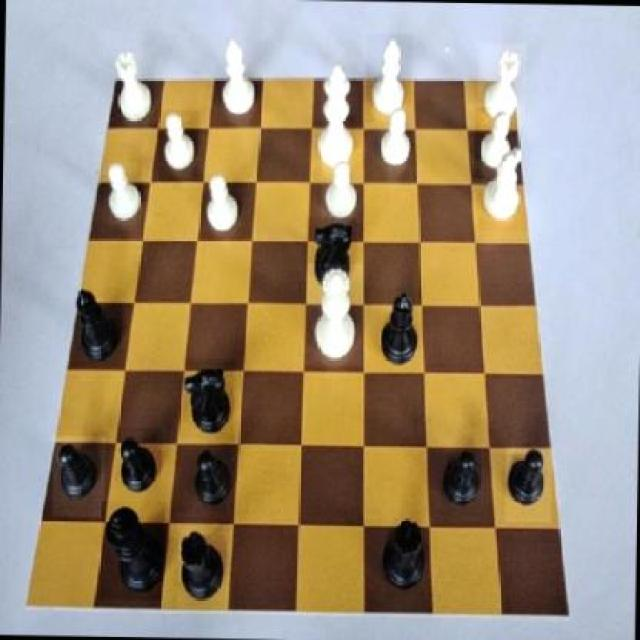bishop: (72, 287, 126, 368), (376, 289, 422, 374)
black-bishop: (100, 502, 166, 600)
black-king: (306, 217, 357, 311), (182, 358, 234, 439)
black-knight: (52, 435, 106, 518), (110, 428, 162, 502), (438, 444, 488, 518), (504, 446, 552, 522), (188, 442, 235, 508)
black-queen: (374, 517, 434, 600), (177, 529, 232, 609)
black-rook: (364, 32, 412, 122), (217, 37, 261, 120)
white-bishop: (316, 64, 358, 174)
white-king: (478, 136, 532, 232)
white-knight: (198, 172, 244, 242), (103, 163, 154, 226), (320, 149, 361, 225), (474, 108, 517, 180), (158, 109, 200, 182), (372, 104, 413, 174)
white-pawn: (305, 263, 362, 367)
white-queen: (106, 45, 157, 132), (477, 43, 526, 126)
